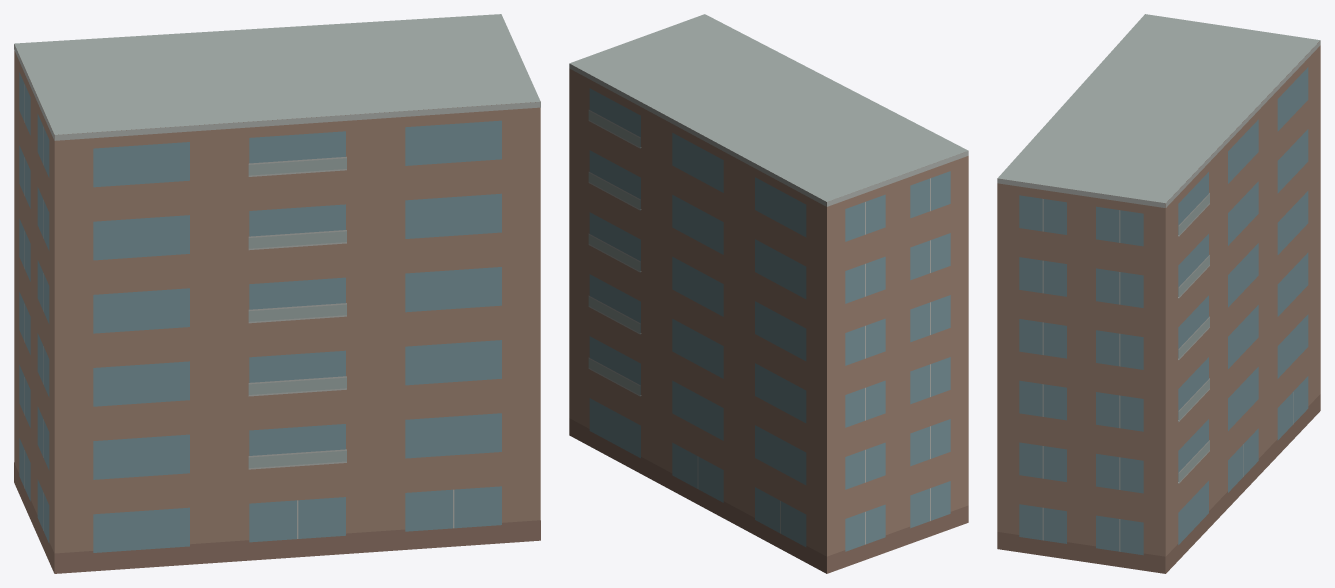
File: survey-upis-32871838.glb
3 renders of one model, left to right at view 1: azimuth 30°, elevation 25°; view 2: azimuth 150°, elevation 25°; view 3: azimuth 270°, elevation 25°, orthographic. The views are drawn at different scales.
Visible parts, largest first — view 1: survey-upis-32871838.tmp; view 2: survey-upis-32871838.tmp; view 3: survey-upis-32871838.tmp.
Boxes of the visible parts, left/top/right/bottom form: survey-upis-32871838.tmp: left=14, top=14, right=540, bottom=573; survey-upis-32871838.tmp: left=569, top=14, right=968, bottom=573; survey-upis-32871838.tmp: left=997, top=14, right=1320, bottom=573.
Bounding box in the file's own units: 20.05 × 18.3 × 14.47.
